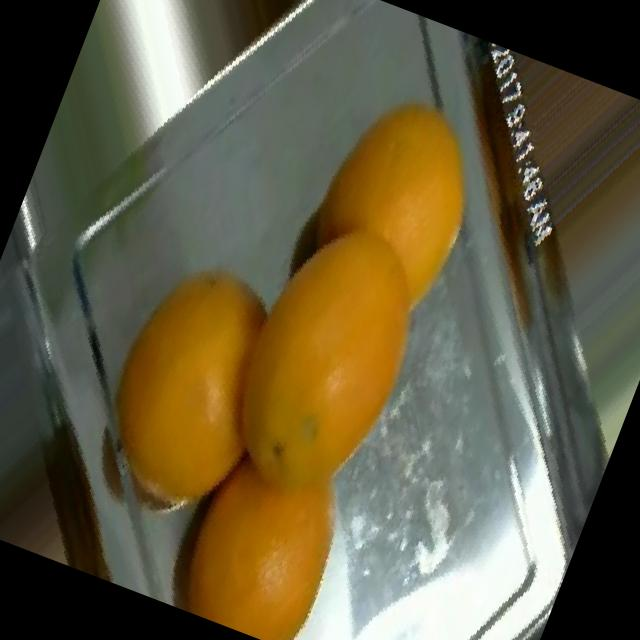Fruit: (113, 0, 346, 128)
